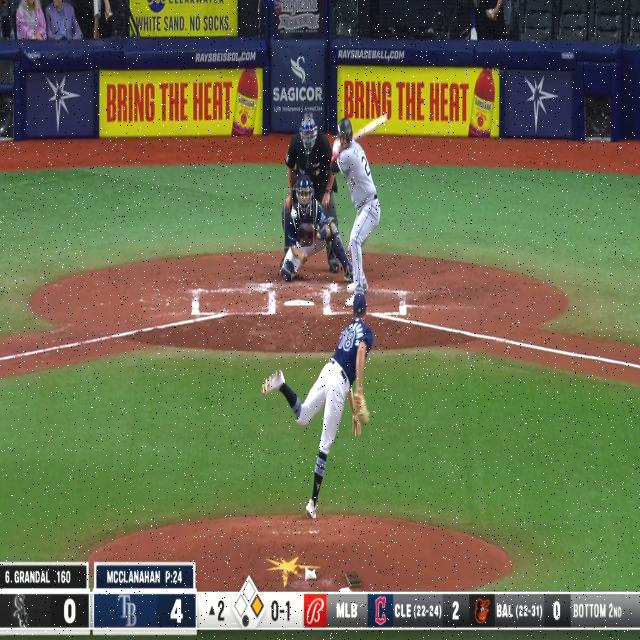baseball: (291, 209, 297, 219)
